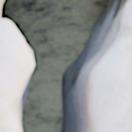broken_brick: (90, 0, 131, 131), (0, 20, 32, 131)
crack: (0, 0, 130, 131)
